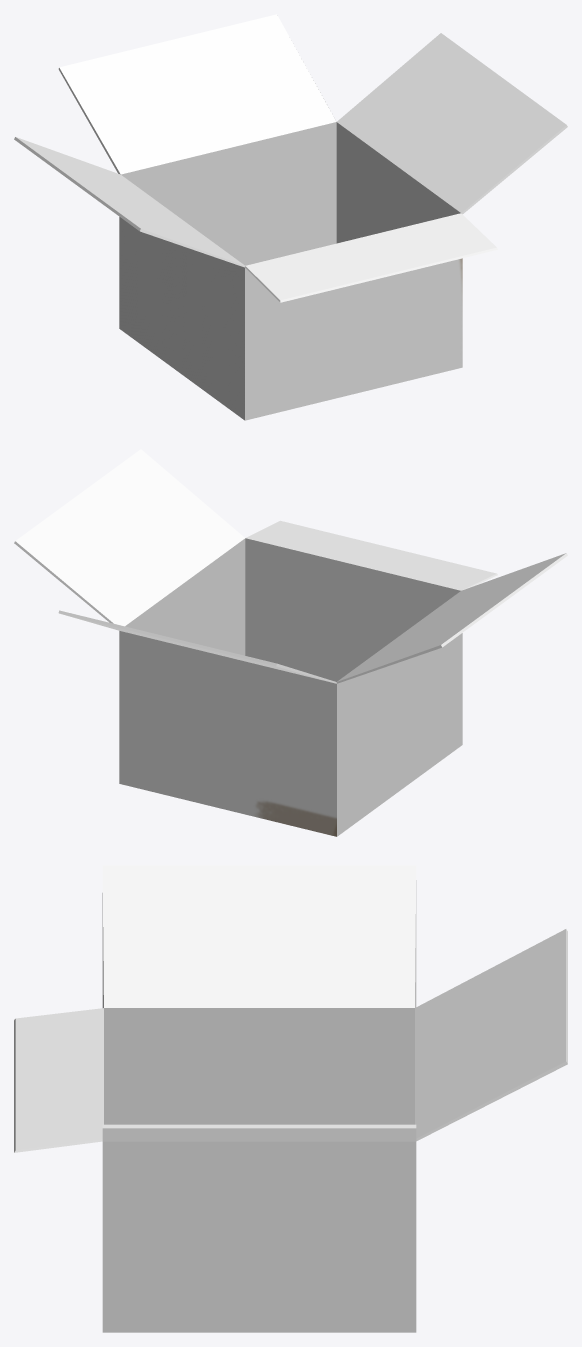
File: CAJA_CARTON.fbx
3 views of the same model, one above another, from view 1: azimuth 30°, elevation 25°; view 2: azimuth 150°, elevation 25°; view 3: azimuth 270°, elevation 25° (orthographic). The views are drawn at different scales.
Parts seen in each view (by area): view 1: CAJA_CARTON; view 2: CAJA_CARTON; view 3: CAJA_CARTON.
Part boxes in pixels (x1,y1,x2,y2): CAJA_CARTON: (14,14,567,420); CAJA_CARTON: (14,449,567,836); CAJA_CARTON: (14,865,567,1332).
Size of the model in its own units: 98.35 by 47.69 by 88.29.
